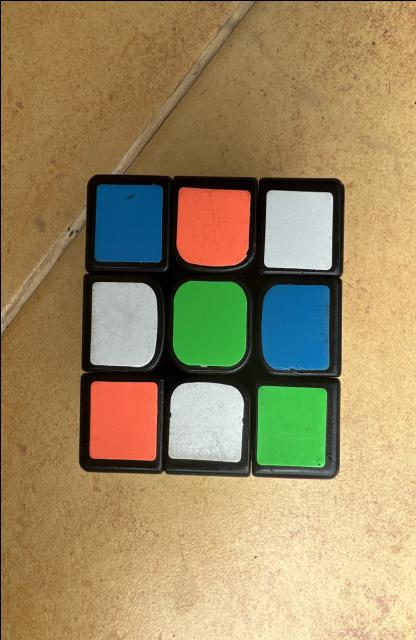Blue: (260, 284, 329, 369), (93, 184, 161, 261)
Green: (172, 280, 246, 366), (256, 385, 326, 466)
Orange: (176, 186, 249, 265), (89, 380, 157, 460)
White: (168, 381, 243, 461), (89, 281, 157, 366), (263, 189, 333, 269)
